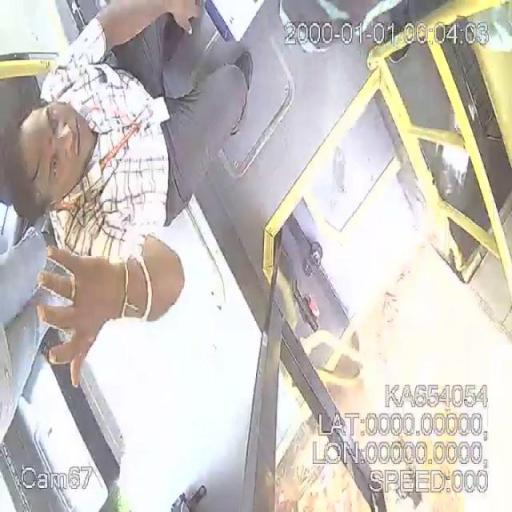persona: (1, 1, 254, 434)
